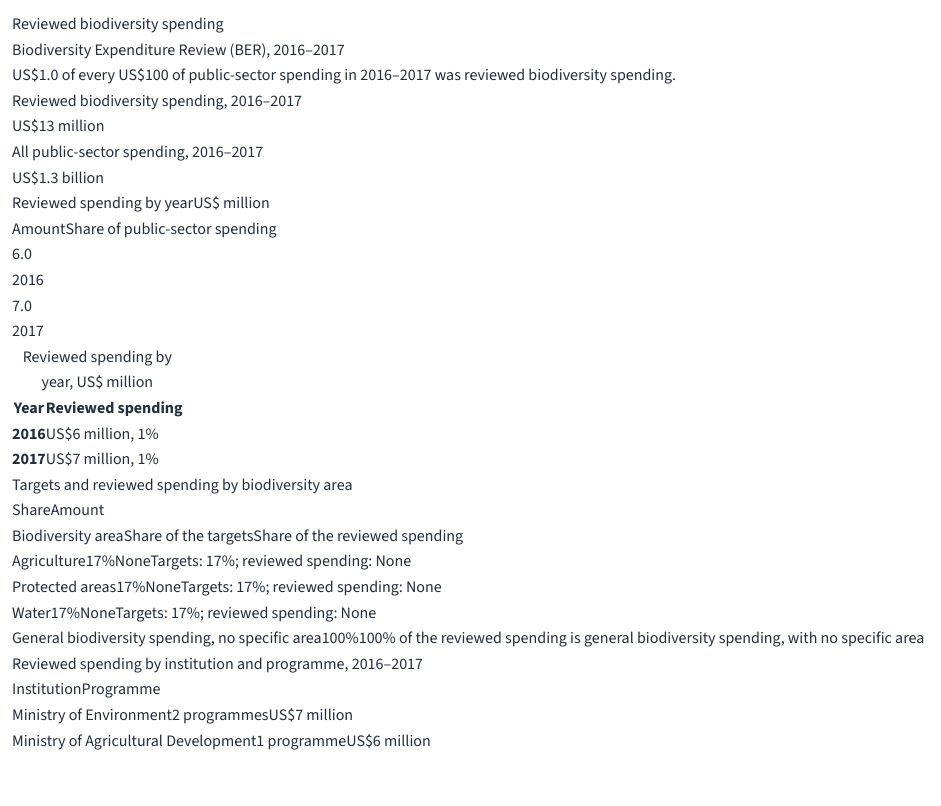
Test: SpendingSection, a rebuilt record › lists Panama's spending by institution first and by programme on request, under one title
Expected: the heading "Reviewed spending by institution and programme, 2016–2017" is shown, [12,653,423,675]
Click the button that starts with "Ministry of Environment".
click(183, 716)  # box [12,703,353,729]
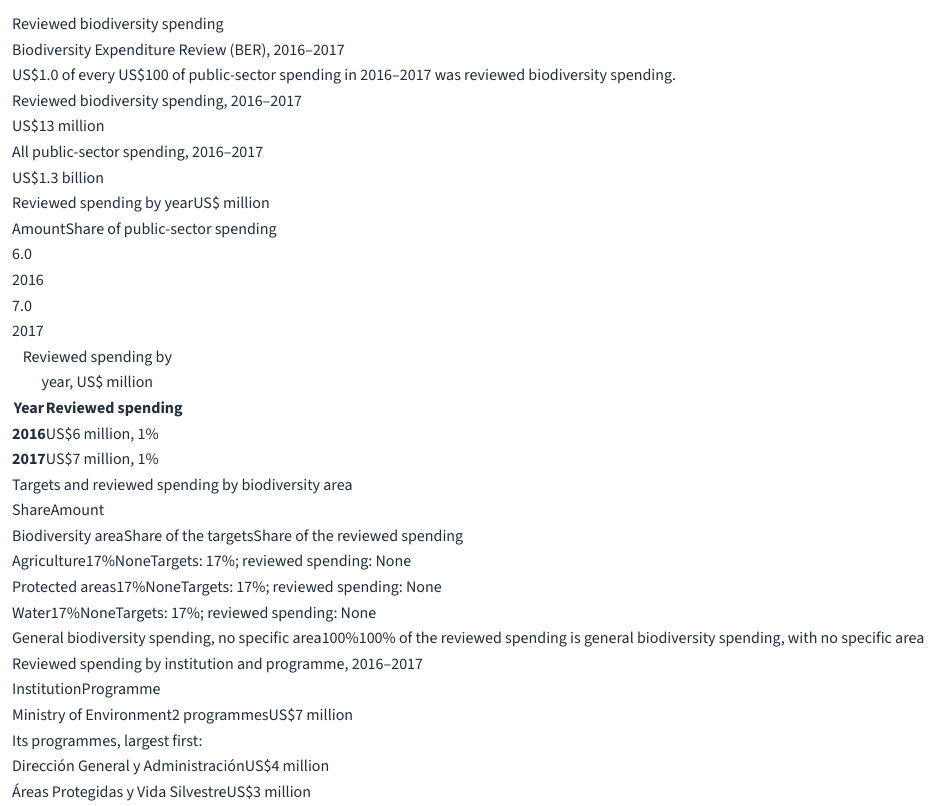
Result: the text "Its programmes, largest first:" is shown at [12,730,202,752]
Result: the text "Dirección General y Administración" is shown at [12,755,245,777]
Click the button "Programme".
click(121, 690)  # box [82,677,160,703]
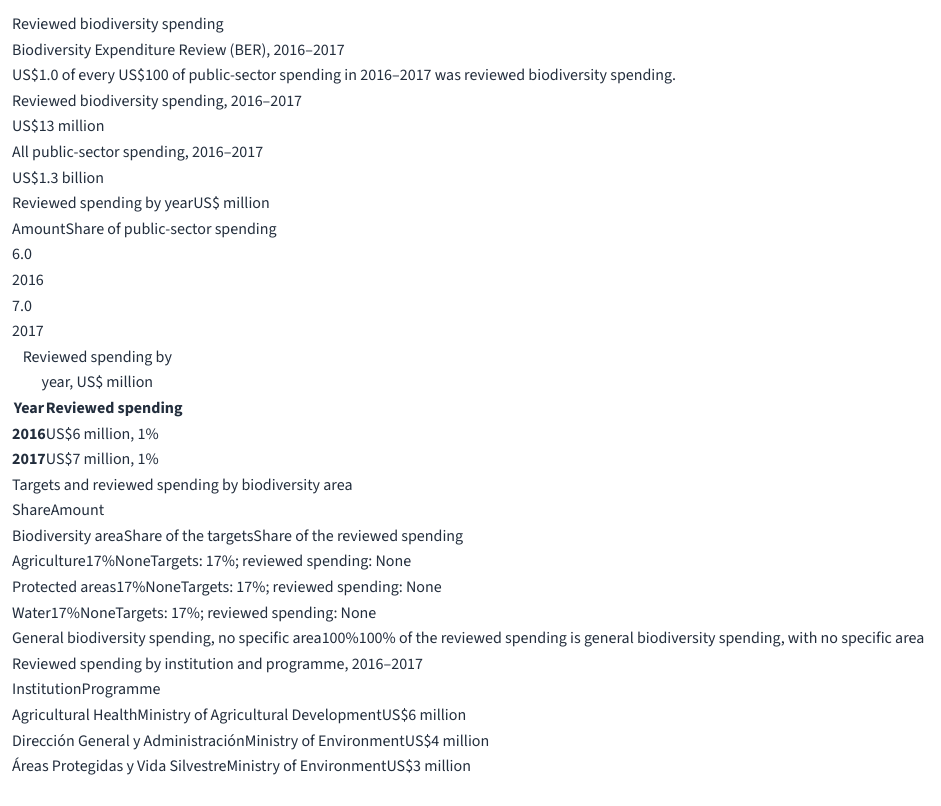
Expected: the heading "Reviewed spending by institution and programme, 2016–2017" is shown, [12,653,423,675]
Result: the button that starts with "Agricultural Health" shows "Agricultural HealthMinistry of Agricultural Development" at [12,703,466,729]
Result: the text "Its programmes, largest first:" is gone
